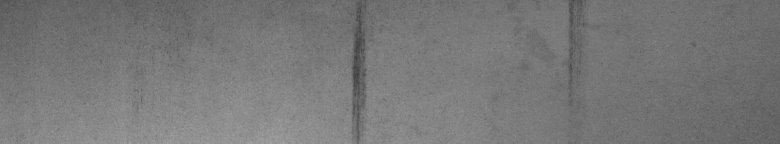hd: (342, 4, 372, 136)
